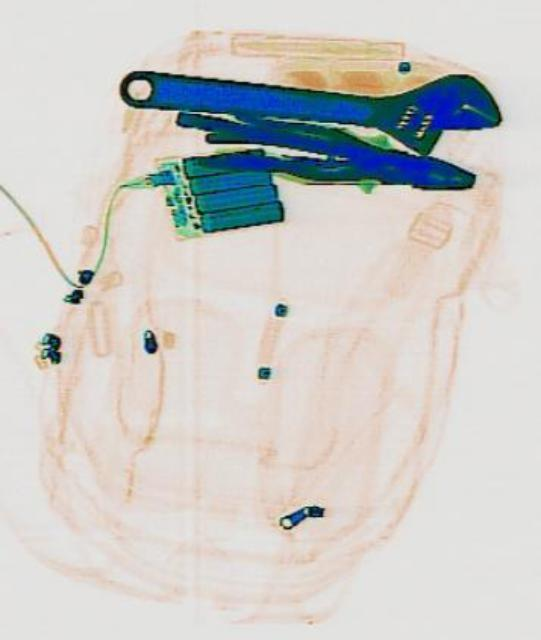Pliers: (199, 102, 476, 206)
Wrench: (115, 42, 504, 160)
